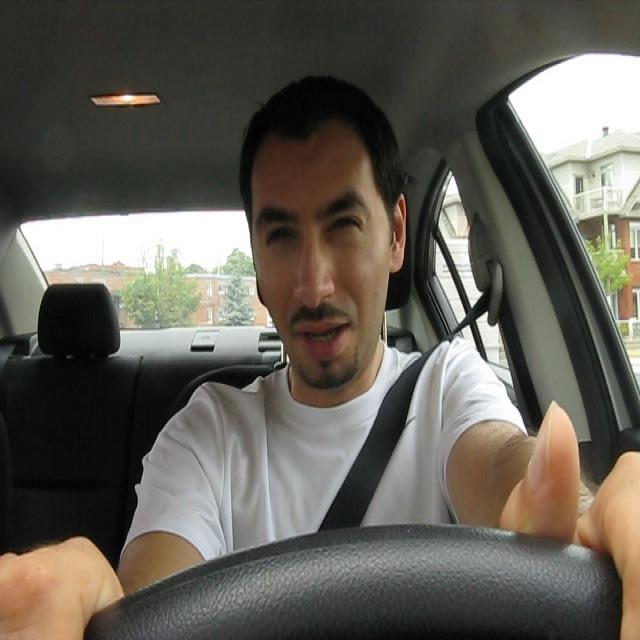Eyeclosed: (265, 218, 297, 260), (326, 209, 362, 244)
